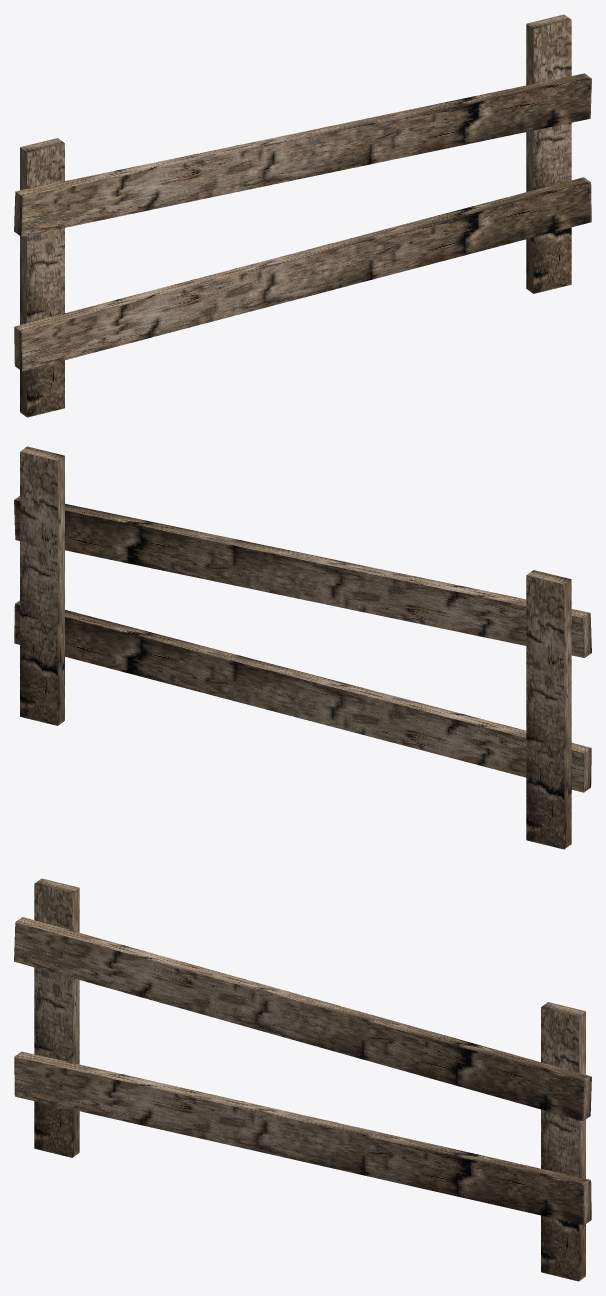
Rendered from fence.obj.
The picture shows the model from 3 angles, top to bottom: view 1: azimuth 30°, elevation 25°; view 2: azimuth 150°, elevation 25°; view 3: azimuth 330°, elevation 25°; orthographic projection.
Visible parts, largest first — view 1: bottom, top, right, left; view 2: bottom, top, left, right; view 3: top, bottom, left, right.
Boxes of the visible parts, x1,y1,x2,y2 form: bottom: (14,177,591,371); top: (14,73,591,236); right: (526,14,571,293); left: (20,138,64,417); bottom: (14,600,591,792); top: (14,496,591,657); left: (526,570,571,849); right: (20,446,64,725); top: (14,917,591,1121); bottom: (14,1051,591,1225); left: (34,878,79,1157); right: (541,1002,585,1281).
Size of the model in its own units: 4.51 by 2 by 0.2.
Materials: 1 (1 with a texture image).
